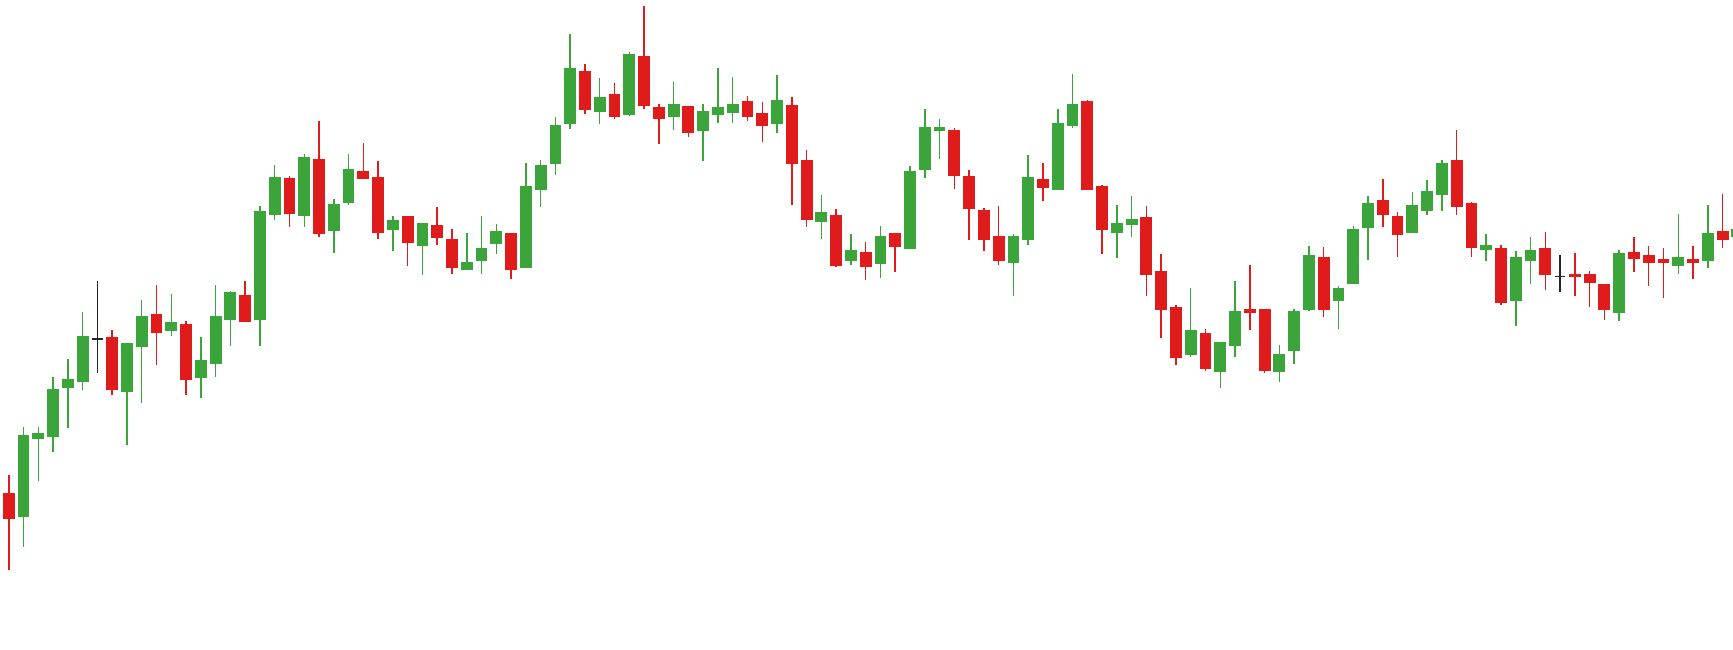buy: (855, 185, 1020, 303)
sell: (561, 8, 652, 98)
